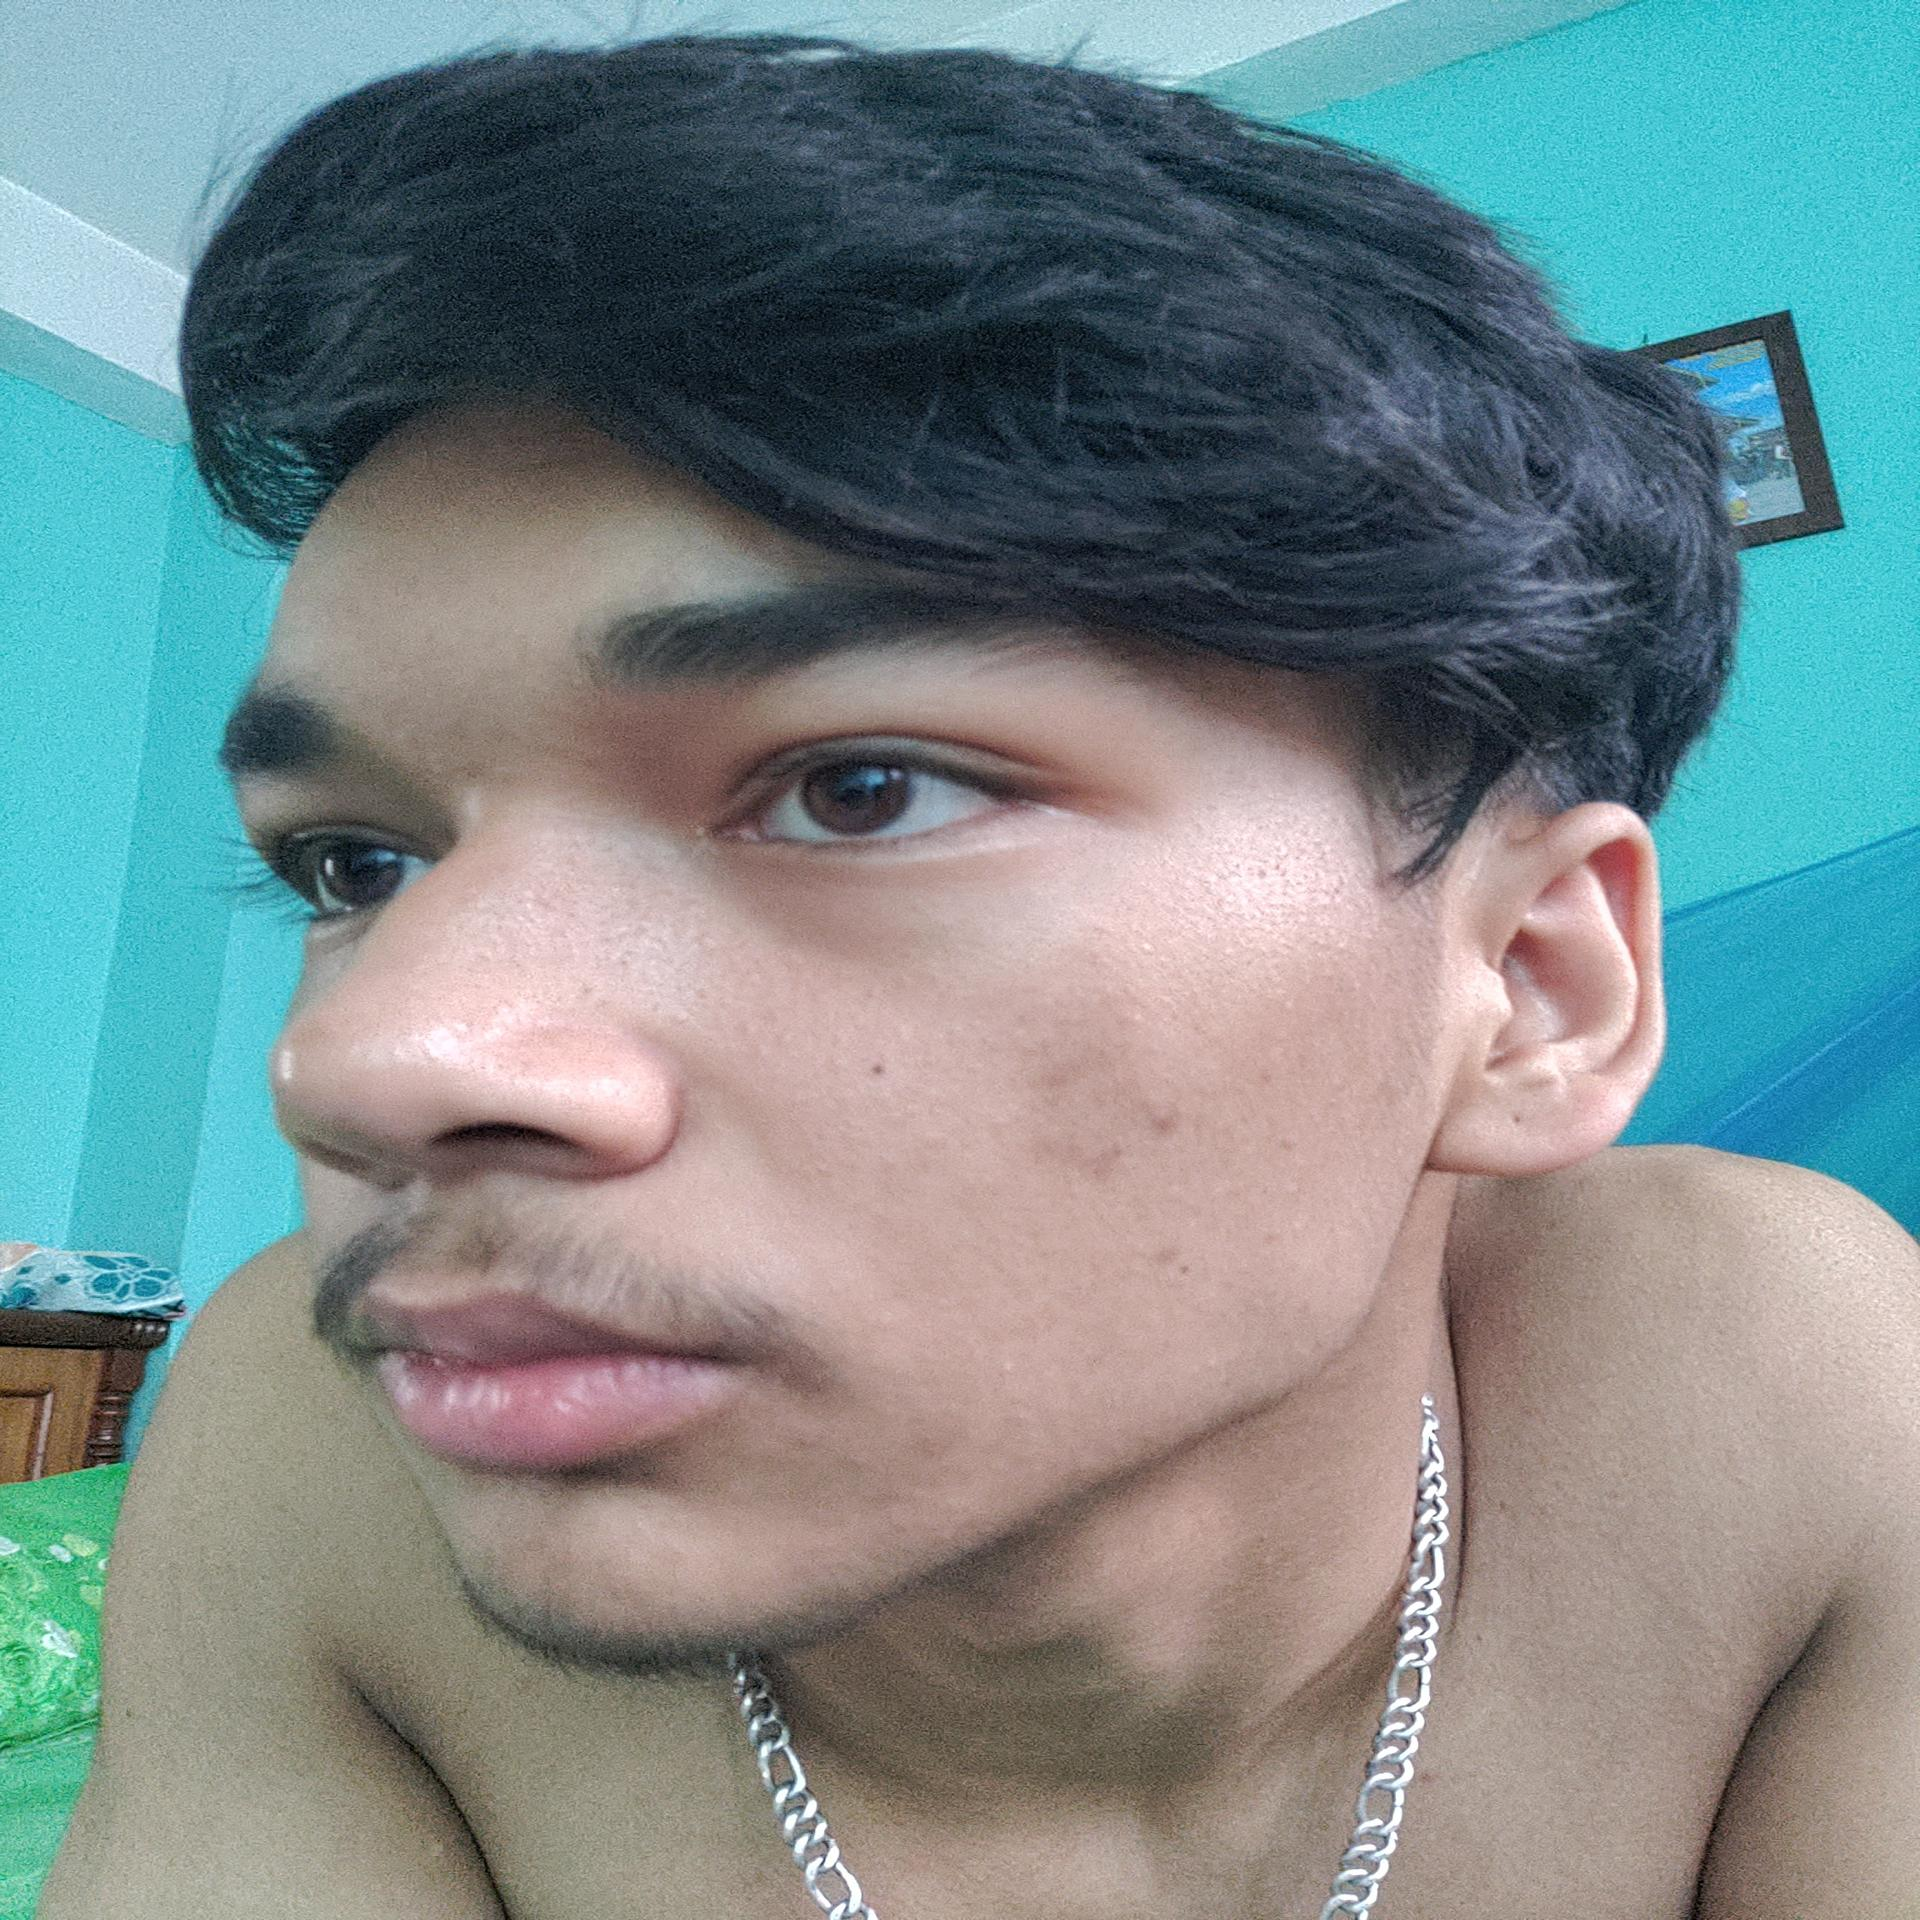Acne: (1020, 1134, 1131, 1178), (1022, 1062, 1088, 1090), (1139, 1099, 1187, 1138), (443, 756, 498, 784), (1139, 1240, 1190, 1269)
Blackhead: (561, 927, 724, 1023)
